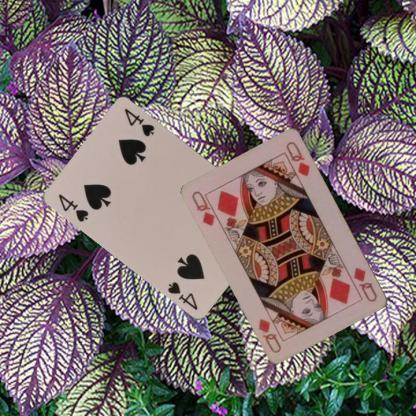4s: (57, 192, 90, 224)
Qd: (189, 188, 223, 228), (351, 264, 379, 304)
